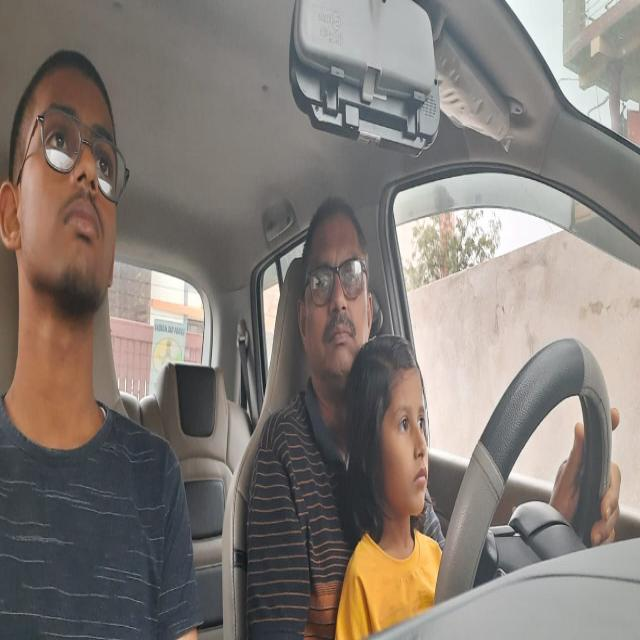child: (365, 346, 433, 530)
person: (6, 59, 124, 305), (300, 200, 373, 371)
